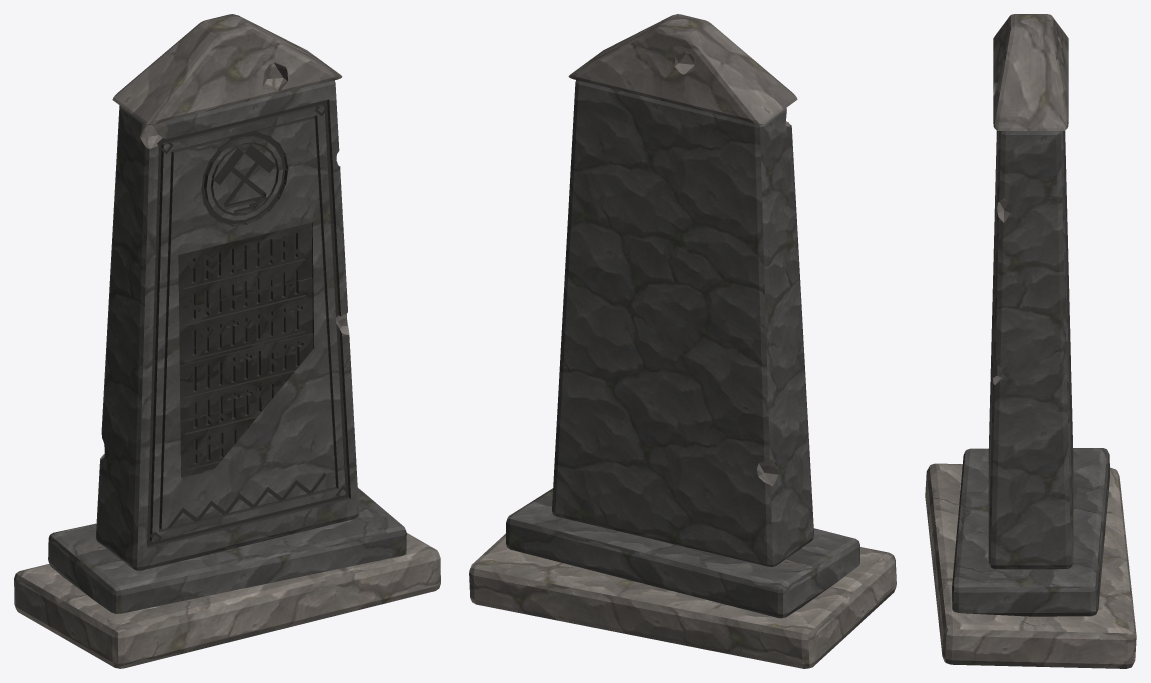
The model's file is ancestor_stone_tall.glb.
3 renders of one model, left to right at view 1: azimuth 30°, elevation 25°; view 2: azimuth 150°, elevation 25°; view 3: azimuth 270°, elevation 25°, orthographic. The views are drawn at different scales.
Parts seen in each view (by area): view 1: model; view 2: model; view 3: model.
Boxes of the visible parts, left/top/right/bottom form: model: left=14, top=14, right=440, bottom=668; model: left=469, top=14, right=896, bottom=668; model: left=925, top=14, right=1136, bottom=668.
Size of the model in its own units: 1.09 by 1.78 by 0.595.
Materials: 5 (4 with a texture image).
